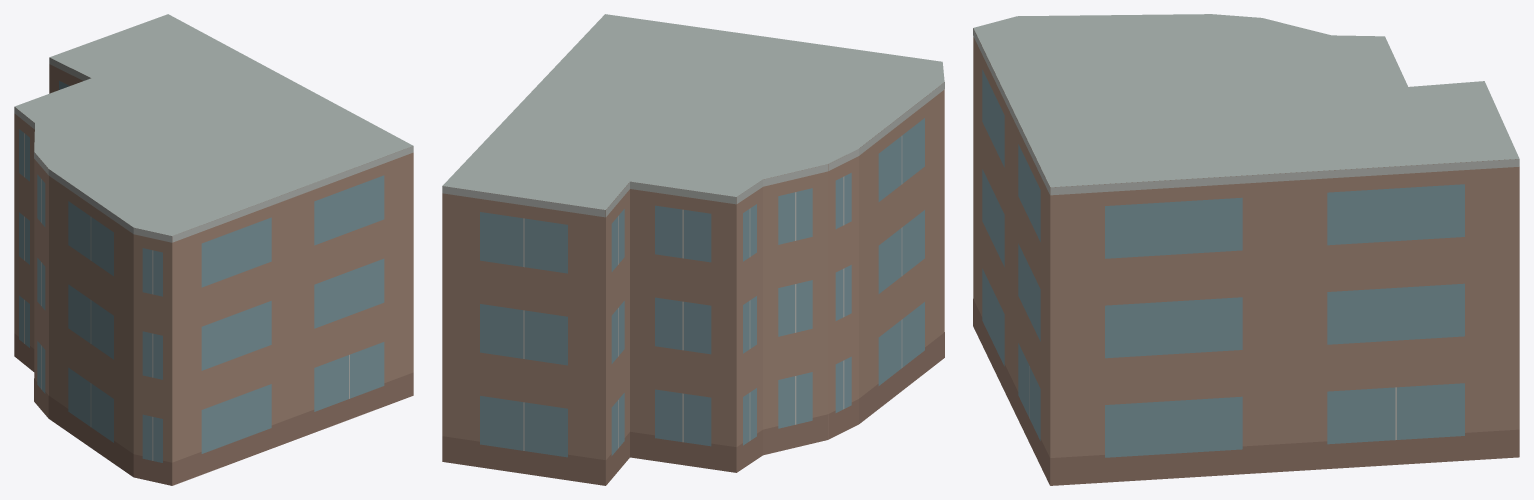
The model's file is survey-upis-32750423.glb.
3 views of the same model, side by side, from view 1: azimuth 30°, elevation 25°; view 2: azimuth 150°, elevation 25°; view 3: azimuth 270°, elevation 25° (orthographic). The views are drawn at different scales.
Visible parts, largest first — view 1: survey-upis-32750423.tmp; view 2: survey-upis-32750423.tmp; view 3: survey-upis-32750423.tmp.
Boxes of the visible parts, x1,y1,x2,y2 form: survey-upis-32750423.tmp: (14,14,413,485); survey-upis-32750423.tmp: (442,14,944,485); survey-upis-32750423.tmp: (973,14,1519,485).
Size of the model in its own units: 11.41 by 9.15 by 15.19.
